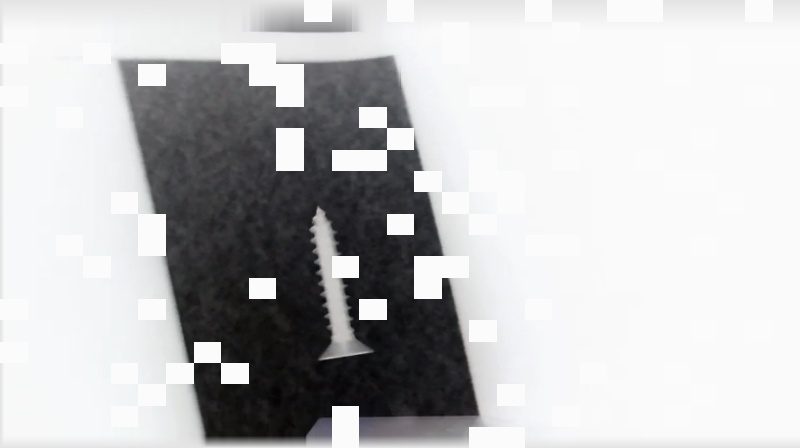S001: (302, 204, 378, 362)
